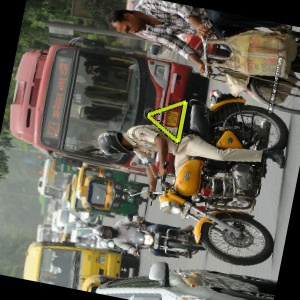triangle: (145, 97, 189, 146)
